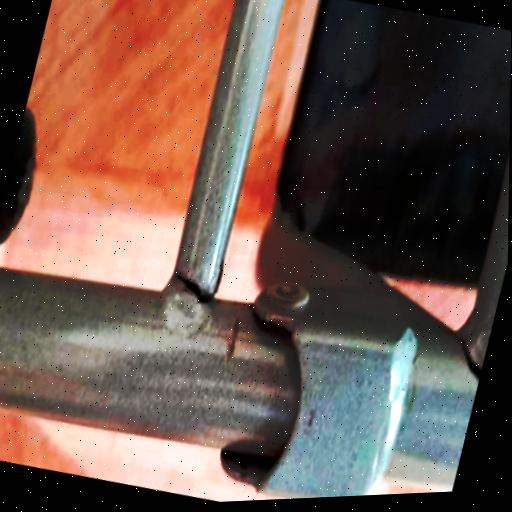crack: (154, 239, 238, 331), (427, 321, 491, 399)
